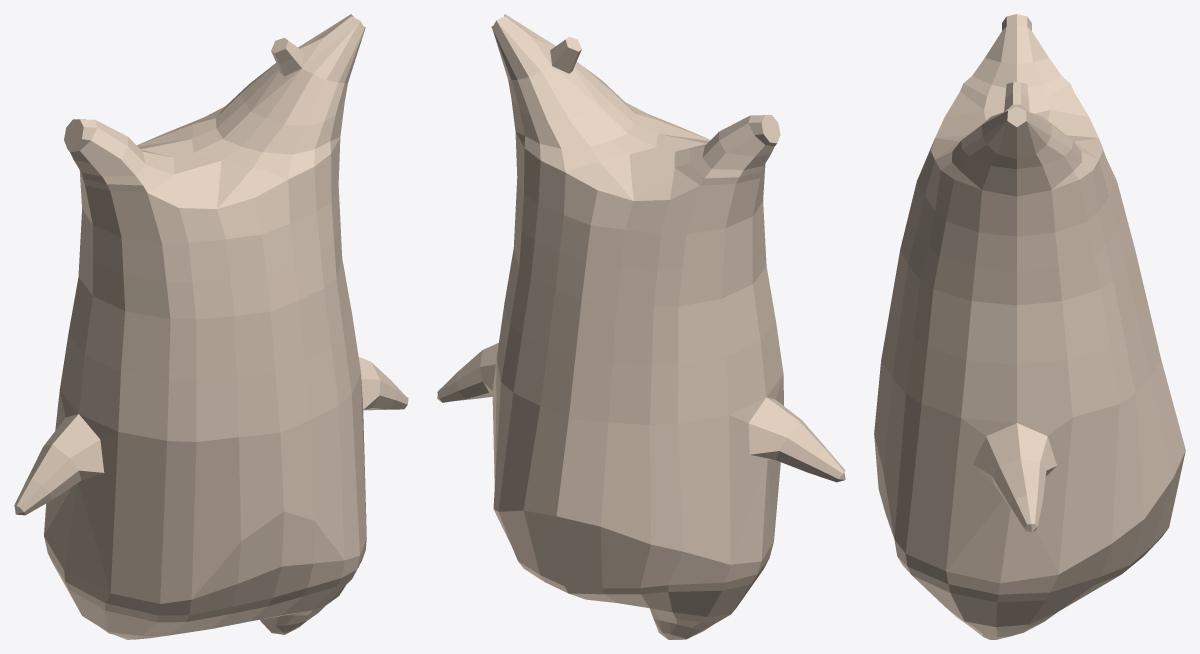
File: frame_0012.obj
The picture shows the model from 3 angles, left to right: view 1: azimuth 30°, elevation 25°; view 2: azimuth 150°, elevation 25°; view 3: azimuth 270°, elevation 25°; orthographic projection. The views are drawn at different scales.
Visible parts, largest first — view 1: korok; view 2: korok; view 3: korok.
Part boxes in pixels (box(x1,y1,x2,y2)): korok: box(14, 14, 408, 639); korok: box(437, 14, 845, 639); korok: box(874, 14, 1185, 639).
Size of the model in its own units: 1.57 by 2.15 by 1.07.
